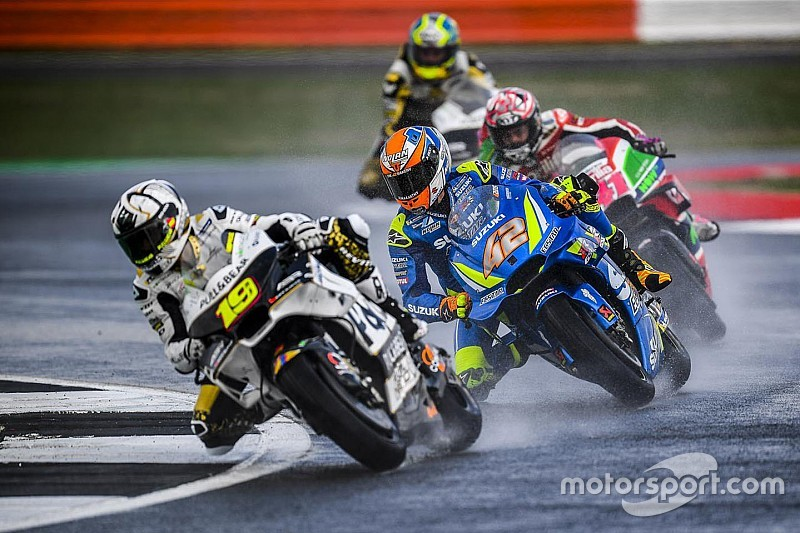helmet: (93, 173, 195, 276), (360, 123, 452, 213), (392, 5, 466, 86), (476, 80, 544, 163)
